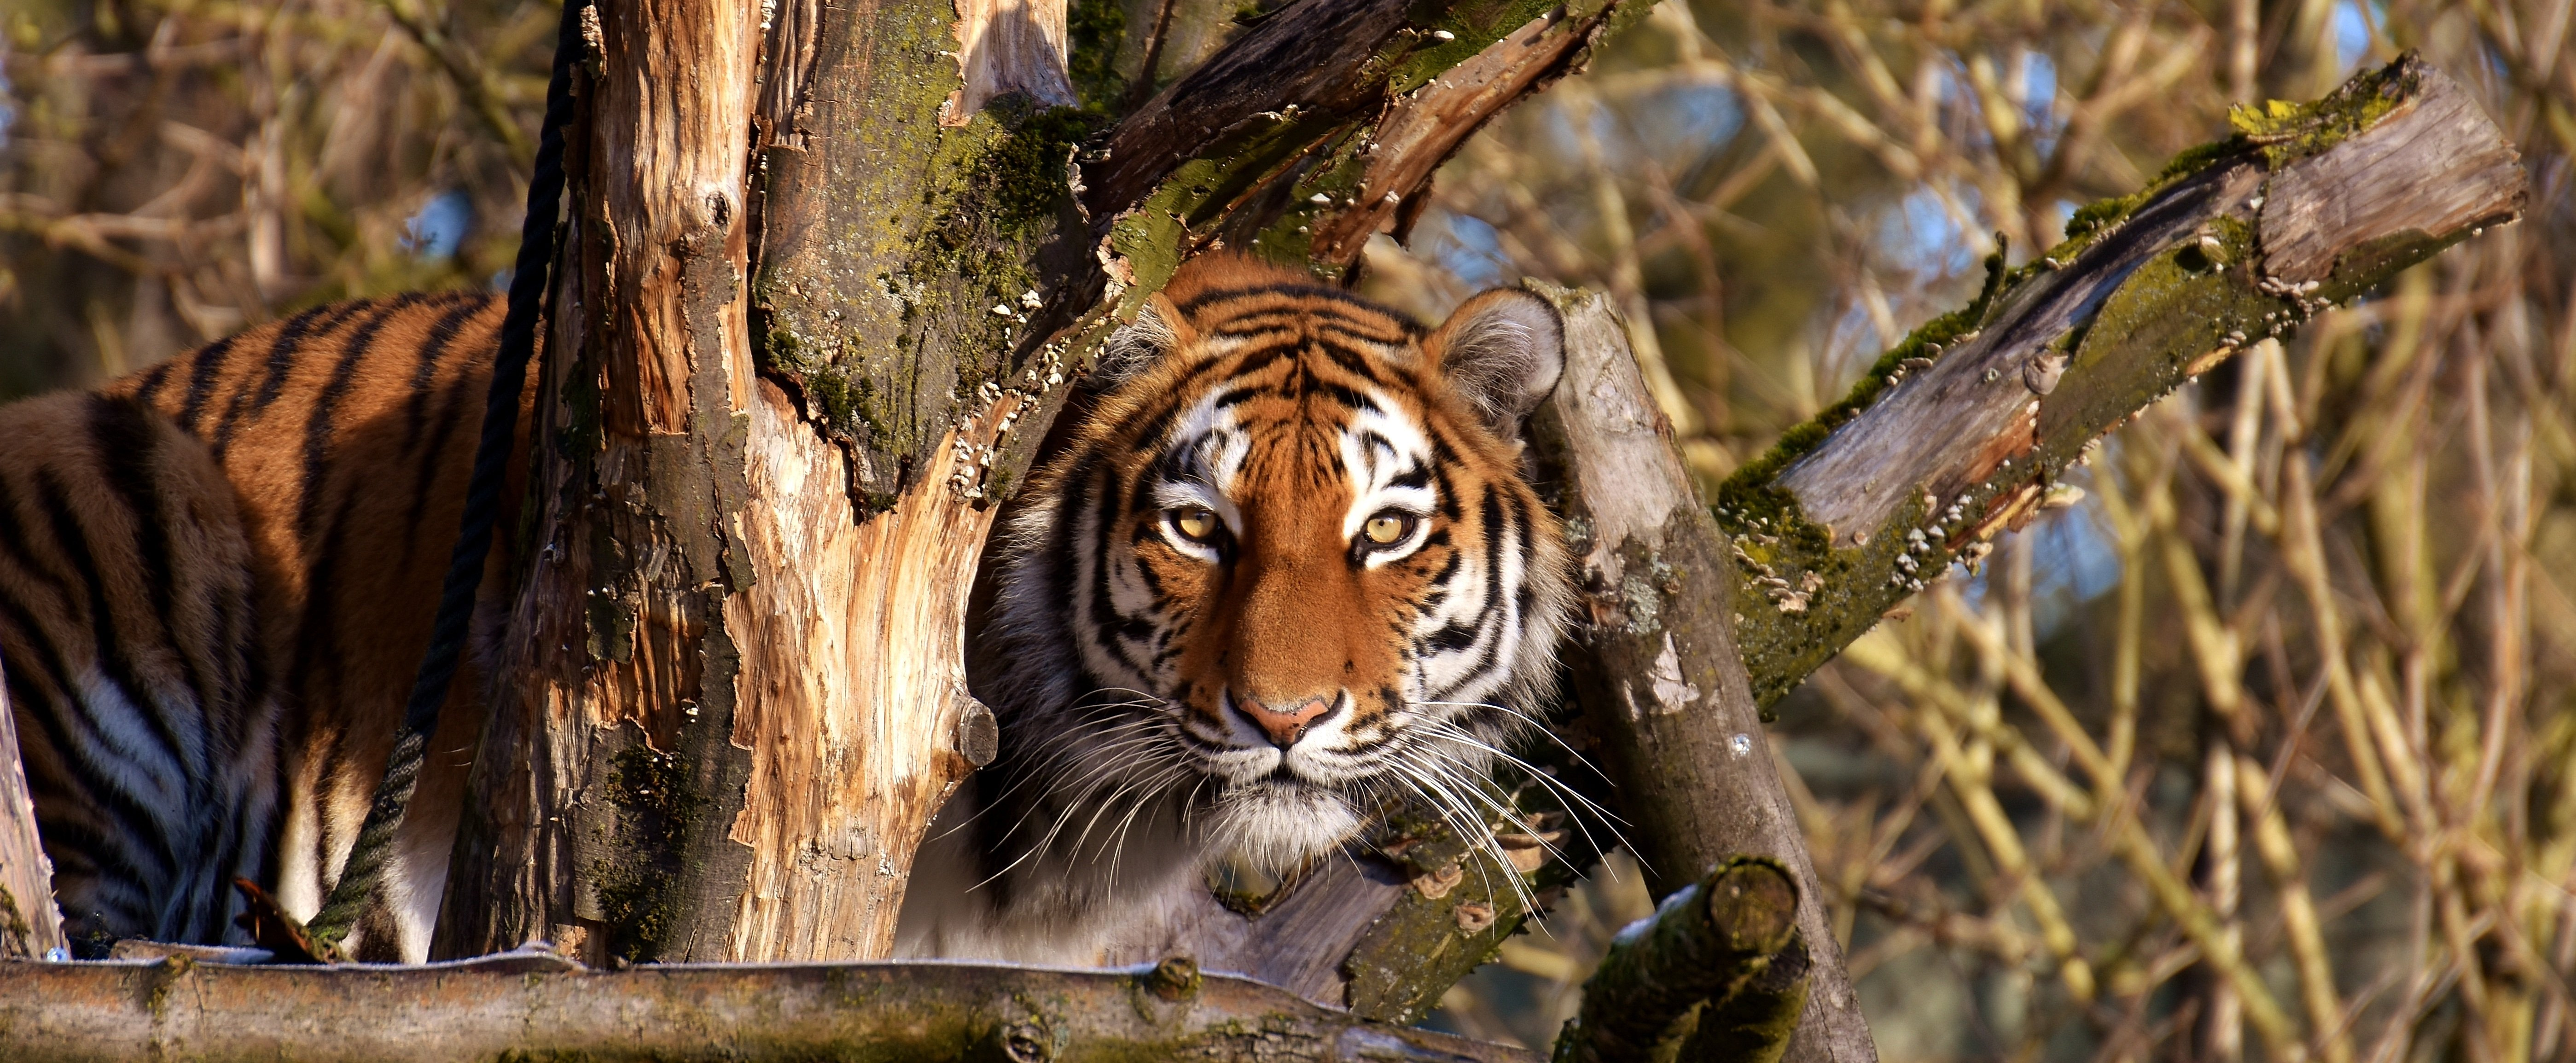tiger: (61, 230, 1626, 894)
